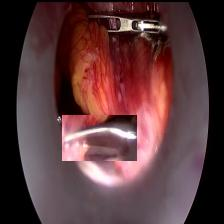Grasper: (86, 10, 170, 41)
Scissors: (61, 114, 136, 160)
